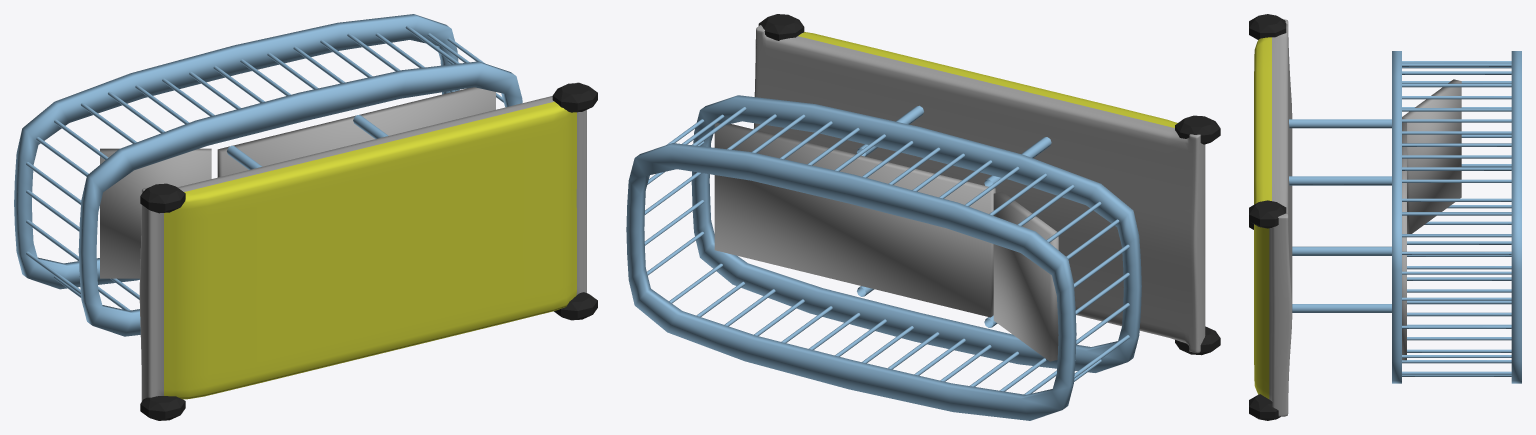
3 renders of one model, left to right at view 1: azimuth 30°, elevation 25°; view 2: azimuth 150°, elevation 25°; view 3: azimuth 270°, elevation 25°, orthographic. The views are drawn at different scales.
Parts seen in each view (by area): view 1: Circle; view 2: Circle; view 3: Circle.
Part boxes in pixels (left/top/right/bottom): Circle: left=14, top=14, right=597, bottom=420; Circle: left=626, top=14, right=1220, bottom=420; Circle: left=1249, top=14, right=1521, bottom=420.
Size of the model in its own units: 187 by 90.02 by 106.
